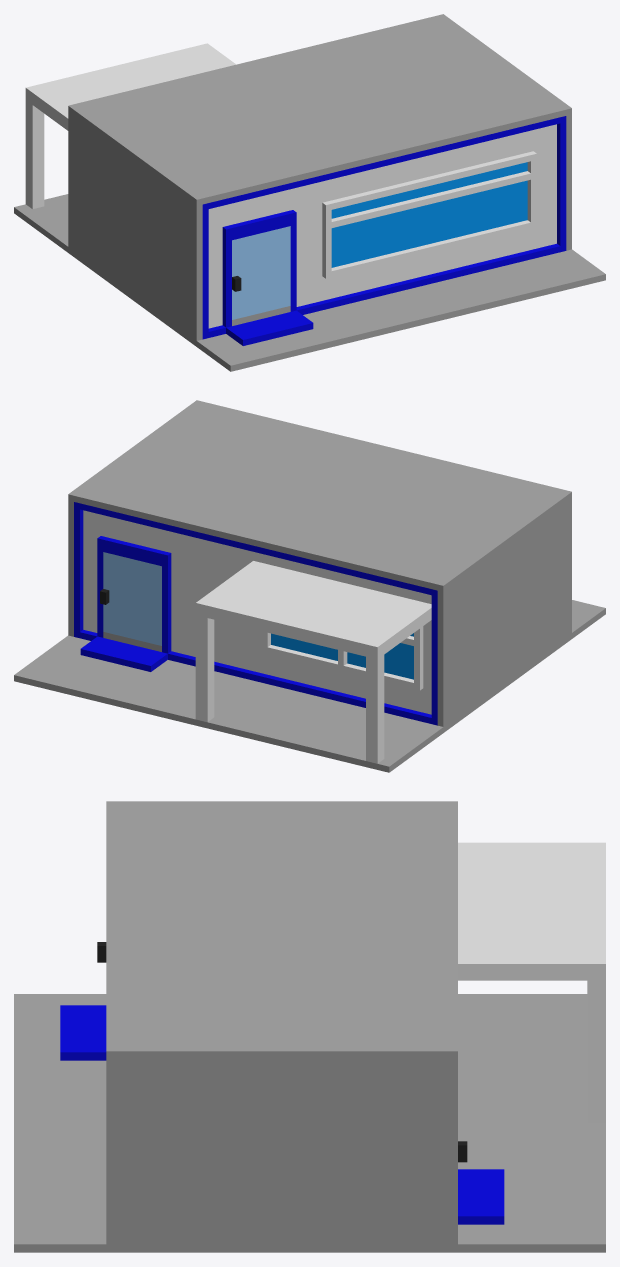
The model's file is obj_house2b.obj.
The picture shows the model from 3 angles, top to bottom: view 1: azimuth 30°, elevation 25°; view 2: azimuth 150°, elevation 25°; view 3: azimuth 270°, elevation 25°; orthographic projection. The views are drawn at different scales.
Size of the model in its own units: 6.4 by 2.4 by 6.4.
1 material, 1 textured.
